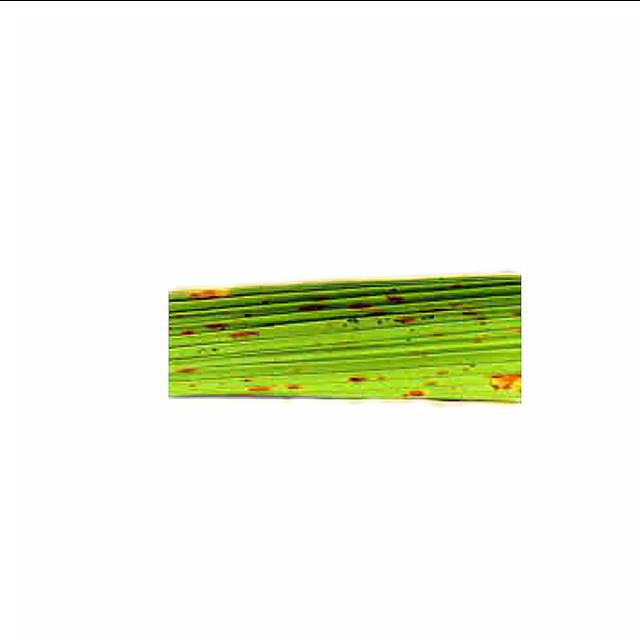Narrow brown: (168, 252, 610, 464)
